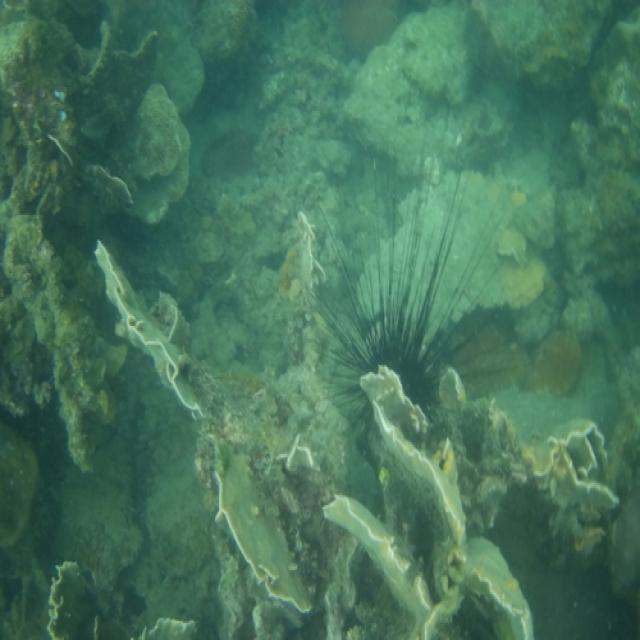Urchin: (307, 152, 517, 421)
